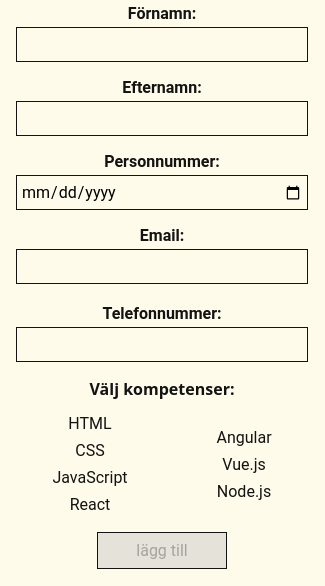
Scenario: AddTeacher component › Form interactions › Submit button should be enabled when all input fields has values
Type "Patrik" into the field labelled "Förnamn:".
click(162, 44); type("Patrik")  # box [16,27,308,62]
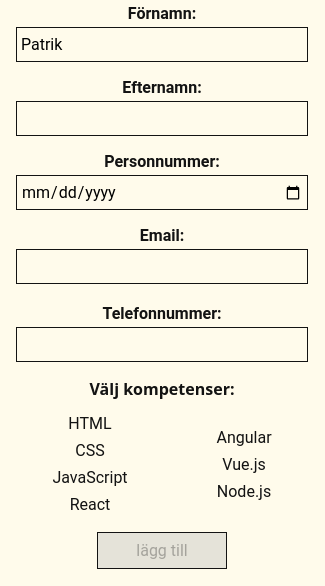
Type "Nyfeldt" into the field labelled "Efternamn:".
click(162, 118); type("Nyfeldt")  # box [16,101,308,136]
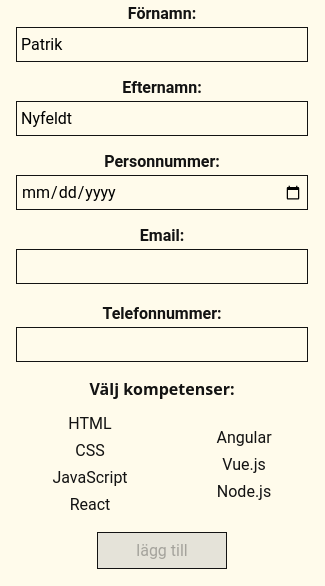
Type "1985-09-23" into the date field labelled "Personnummer:".
click(162, 192); type("1985-09-23")  # box [16,175,308,210]
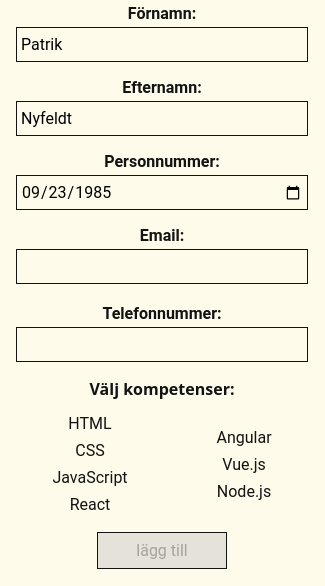
Type "patrik@mail.com" into the field labelled "Email:".
click(162, 266); type("patrik@mail.com")  # box [16,249,308,284]
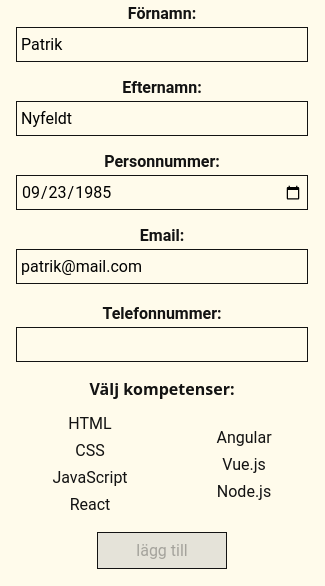
Type "0700000000" into the field labelled "Telefonnummer:".
click(162, 344); type("0700000000")  # box [16,327,308,362]
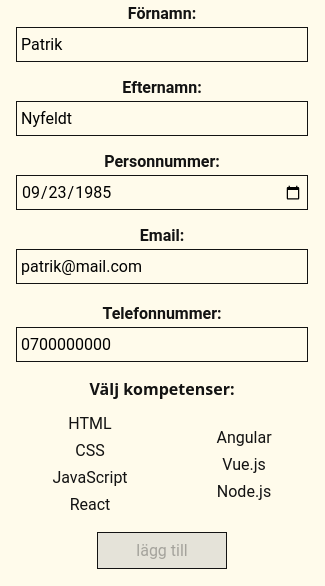
Click the checkbox labelled "React".
click(90, 504)  # box [70,495,110,514]
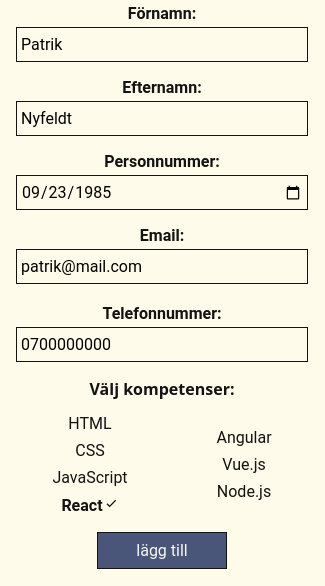
Expected: the button "lägg till" is enabled, [97,532,227,569]
